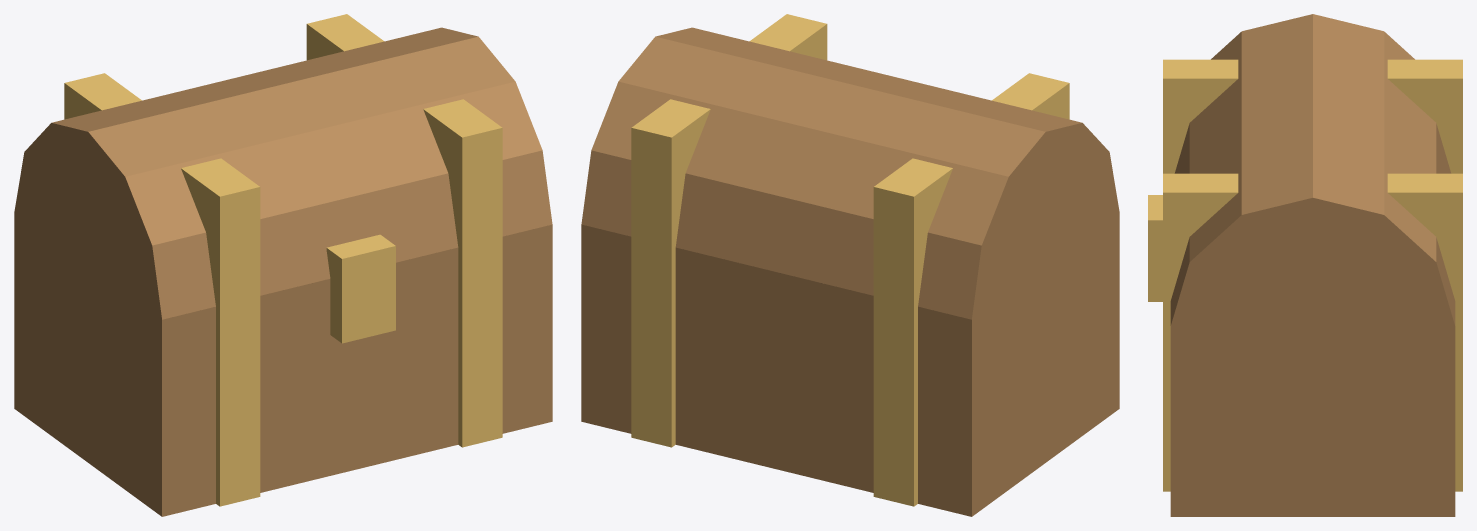
File: tabletop-game-components-treasure-chest-b0e8881c__20855.glb
The picture shows the model from 3 angles, left to right: view 1: azimuth 30°, elevation 25°; view 2: azimuth 150°, elevation 25°; view 3: azimuth 270°, elevation 25°; orthographic projection. The views are drawn at different scales.
Visible parts, largest first — view 1: treasure-chest; view 2: treasure-chest; view 3: treasure-chest.
Part boxes in pixels (x1,y1,x2,y2): treasure-chest: (14,14,552,516); treasure-chest: (581,14,1119,516); treasure-chest: (1148,14,1462,516).
Bounding box in the file's own units: 0.029 × 0.0235 × 0.021.
